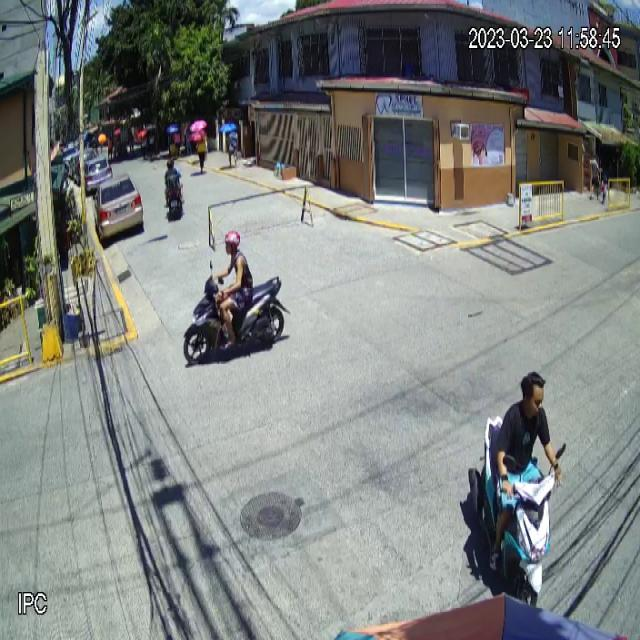Motorcycle: (468, 414, 568, 608), (183, 258, 291, 366)
